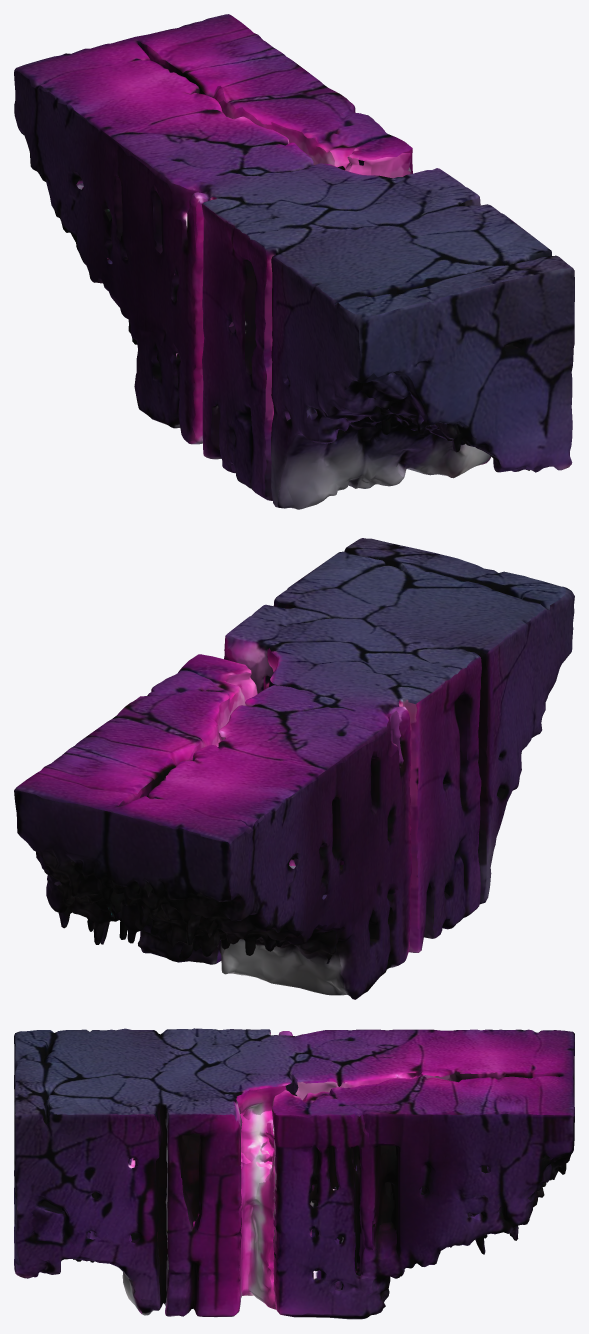
Rendered from shelf-break-5-generated-2026-05-17T20-47-17-100Z.high.glb.
The picture shows the model from 3 angles, top to bottom: view 1: azimuth 30°, elevation 25°; view 2: azimuth 150°, elevation 25°; view 3: azimuth 270°, elevation 25°; orthographic projection. The views are drawn at different scales.
Parts seen in each view (by area): view 1: temp_mesh.ply; view 2: temp_mesh.ply; view 3: temp_mesh.ply.
Boxes of the visible parts, <box> form: temp_mesh.ply: <box>14,14,574,509</box>; temp_mesh.ply: <box>14,538,574,999</box>; temp_mesh.ply: <box>14,1028,574,1319</box>.
Bounding box in the file's own units: 0.7297 × 0.8174 × 1.97.
Materials: 1 (1 with a texture image).
